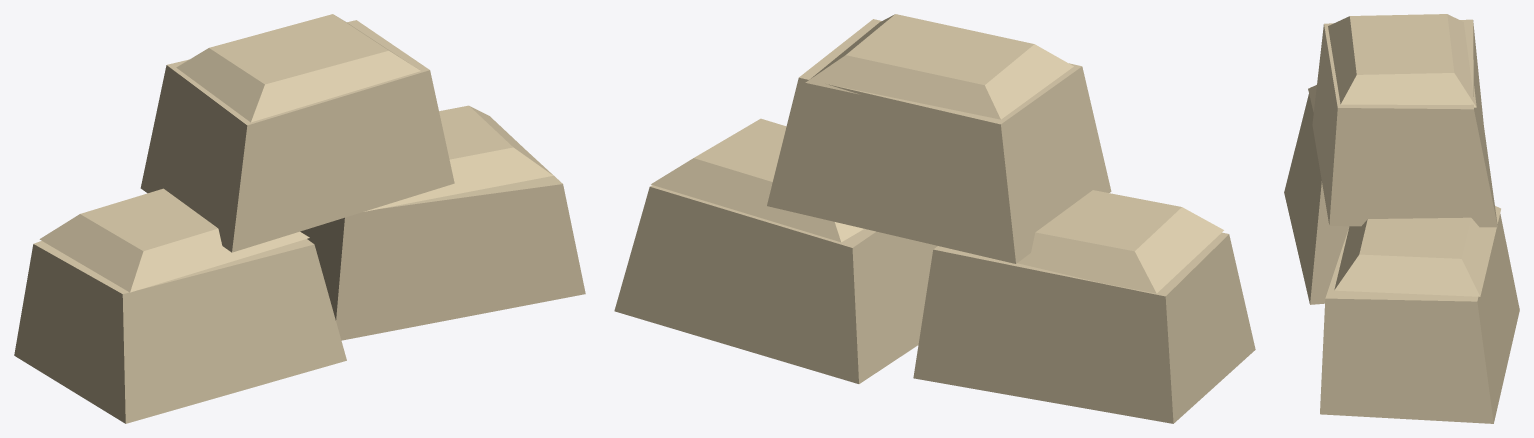
The model's file is SM_Flour_Sacks.obj.
The picture shows the model from 3 angles, left to right: view 1: azimuth 30°, elevation 25°; view 2: azimuth 150°, elevation 25°; view 3: azimuth 270°, elevation 25°; orthographic projection. The views are drawn at different scales.
Parts seen in each view (by area): view 1: SM_Flour_Sacks; view 2: SM_Flour_Sacks; view 3: SM_Flour_Sacks.
Part boxes in pixels (left/top/right/bottom): SM_Flour_Sacks: left=14, top=14, right=585, bottom=423; SM_Flour_Sacks: left=614, top=14, right=1255, bottom=423; SM_Flour_Sacks: left=1284, top=14, right=1519, bottom=423.
Bounding box in the file's own units: 1.07 × 0.5482 × 0.4494.
